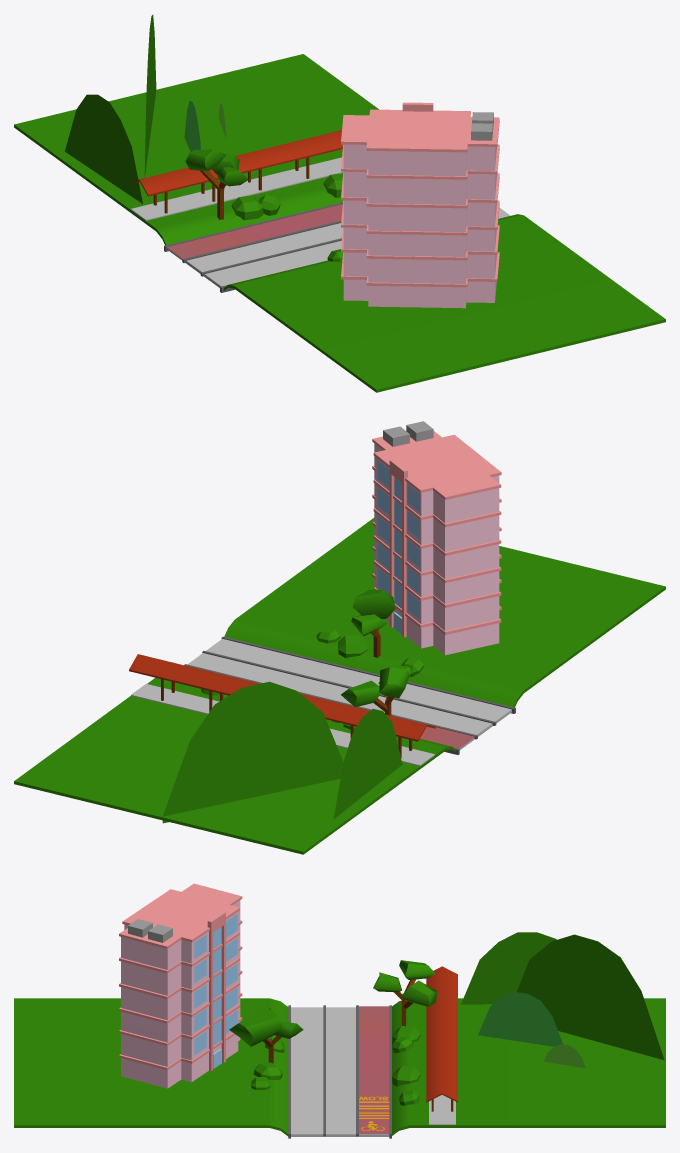
File: Level 1 Chunk 2 V2.fbx
The picture shows the model from 3 angles, top to bottom: view 1: azimuth 30°, elevation 25°; view 2: azimuth 150°, elevation 25°; view 3: azimuth 270°, elevation 25°; orthographic projection. The views are drawn at different scales.
Visible parts, largest first — view 1: pCube7978, Building_C22, pCube7975, pCube7977, pasted__pCube5673, pCube7980, pCube7963, pCube7952, pCube7944, pasted__pasted__pCube5555, Bushes190, pasted__pasted__pCube5554; view 2: pCube7978, Building_C22, pCube7975, pasted__pasted__pCube5555, pCube7977, pasted__pCube5673, pCube7980, pCube7963, pCube7944, pCube7943, pCube7974, pCube7976 (+1 smaller); view 3: pCube7978, pCube7975, Building_C22, pasted__pasted__pCube5555, pCube7977, pCube7952, pCube7980, pasted__pCube5673, pasted__pasted__pCube5554, pCube7944, pCube7943, pCube7963 (+6 smaller).
Boxes of the visible parts, left/top/right/bottom form: pCube7978: left=224, top=214, right=665, bottom=392; Building_C22: left=341, top=102, right=499, bottom=308; pCube7975: left=14, top=54, right=378, bottom=245; pCube7977: left=168, top=207, right=510, bottom=287; pasted__pCube5673: left=65, top=94, right=142, bottom=203; pCube7980: left=130, top=130, right=342, bottom=196; pCube7963: left=131, top=157, right=343, bottom=220; pCube7952: left=167, top=204, right=342, bottom=258; pCube7944: left=185, top=149, right=248, bottom=219; pasted__pasted__pCube5555: left=144, top=14, right=156, bottom=177; Bushes190: left=231, top=195, right=263, bottom=220; pasted__pasted__pCube5554: left=184, top=101, right=200, bottom=151; pCube7978: left=224, top=518, right=665, bottom=707; Building_C22: left=372, top=421, right=501, bottom=655; pCube7975: left=14, top=677, right=455, bottom=854; pasted__pasted__pCube5555: left=162, top=681, right=343, bottom=823; pCube7977: left=187, top=639, right=511, bottom=749; pasted__pCube5673: left=333, top=709, right=402, bottom=818; pCube7980: left=129, top=654, right=435, bottom=741; pCube7963: left=131, top=683, right=434, bottom=766; pCube7944: left=341, top=665, right=411, bottom=715; pCube7943: left=351, top=589, right=395, bottom=657; pCube7974: left=221, top=636, right=515, bottom=713; pCube7976: left=202, top=650, right=496, bottom=725; pCube7978: left=14, top=998, right=288, bottom=1136; pCube7975: left=392, top=998, right=665, bottom=1135; Building_C22: left=119, top=883, right=242, bottom=1088; pasted__pasted__pCube5555: left=517, top=934, right=664, bottom=1060; pCube7977: left=291, top=1007, right=389, bottom=1136; pCube7952: left=359, top=1006, right=389, bottom=1133; pCube7980: left=426, top=966, right=457, bottom=1102; pasted__pCube5673: left=461, top=932, right=556, bottom=1004; pasted__pasted__pCube5554: left=478, top=992, right=562, bottom=1046; pCube7944: left=373, top=960, right=437, bottom=1026; pCube7943: left=229, top=1007, right=303, bottom=1063; pCube7963: left=429, top=1095, right=455, bottom=1124.
Size of the model in its own units: 12.38 by 7.37 by 26.56.
3 materials, 3 textured.
